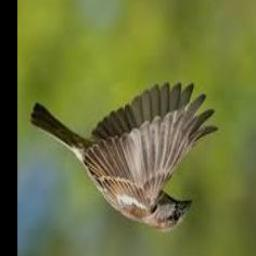Sparrow: (30, 84, 218, 232)
